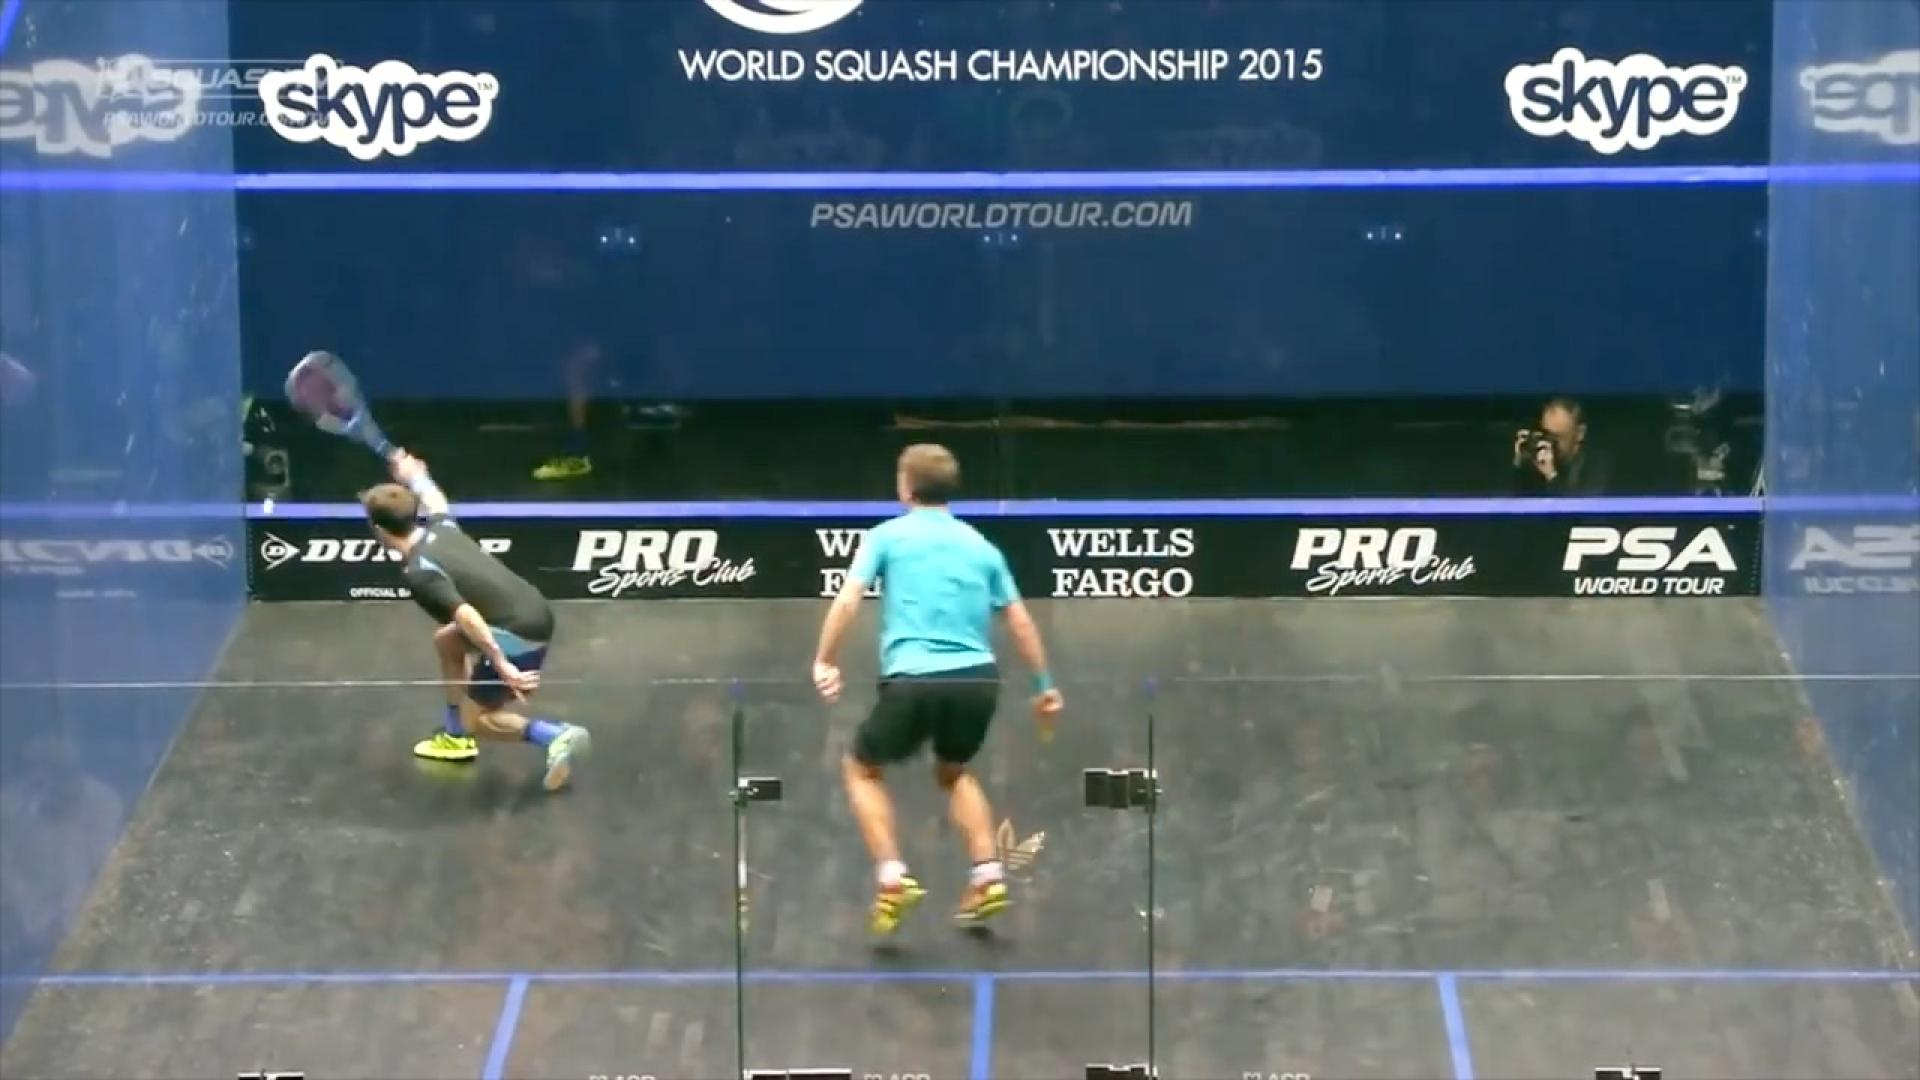Squash-Ball: (245, 483, 287, 522)
